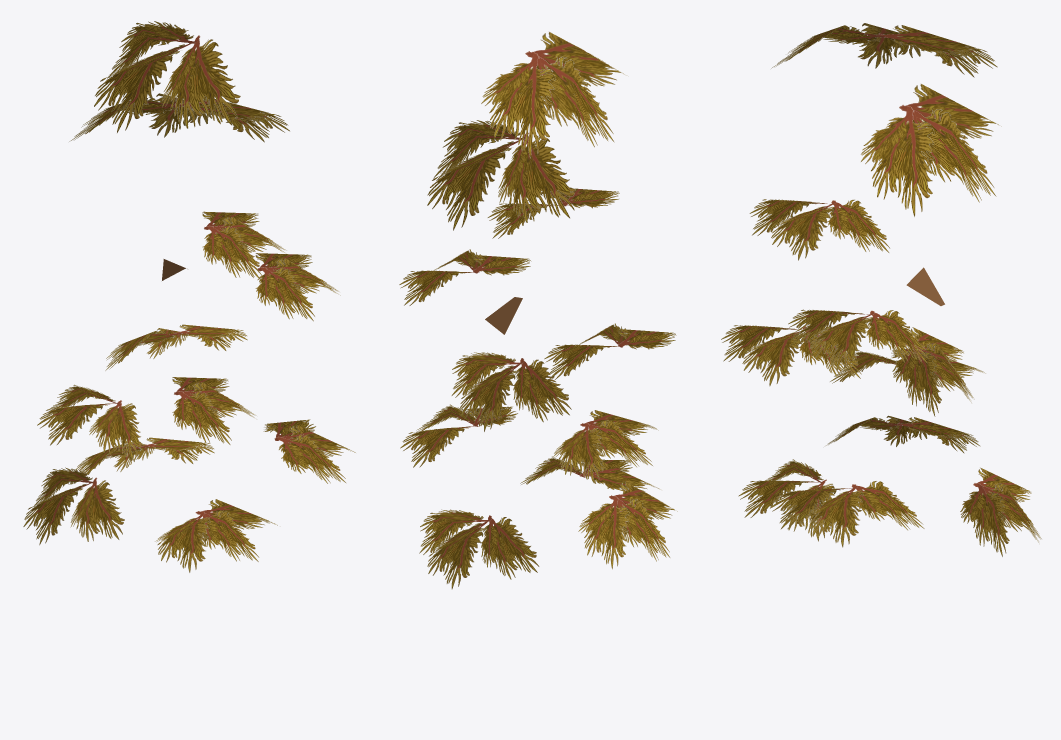
Rendered from Tree_002.fbx.
3 views of the same model, side by side, from view 1: azimuth 30°, elevation 25°; view 2: azimuth 150°, elevation 25°; view 3: azimuth 270°, elevation 25° (orthographic). The views are drawn at different scales.
Visible parts, largest first — view 1: polySurface11; view 2: polySurface11; view 3: polySurface11.
Boxes of the visible parts, box(x1,y1,x2,y2) form: polySurface11: box(23, 21, 355, 572); polySurface11: box(399, 32, 677, 589); polySurface11: box(721, 23, 1041, 556).
Size of the model in its own units: 352 by 787 by 331.
